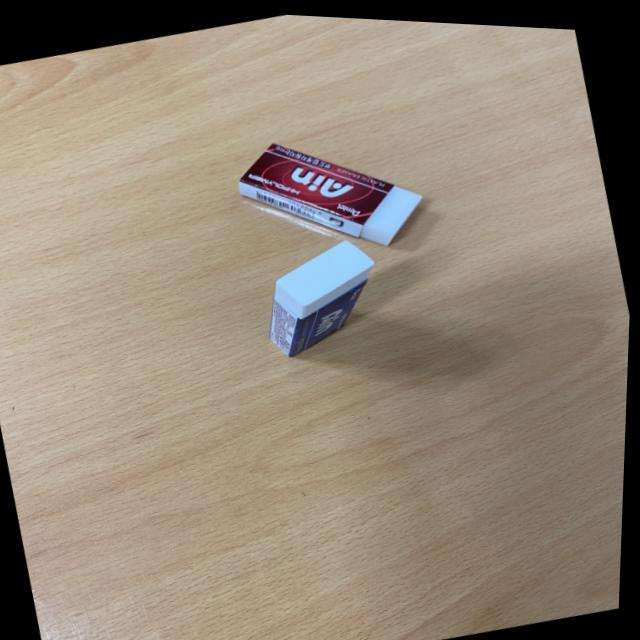red: (226, 104, 440, 276), (234, 221, 405, 370)
